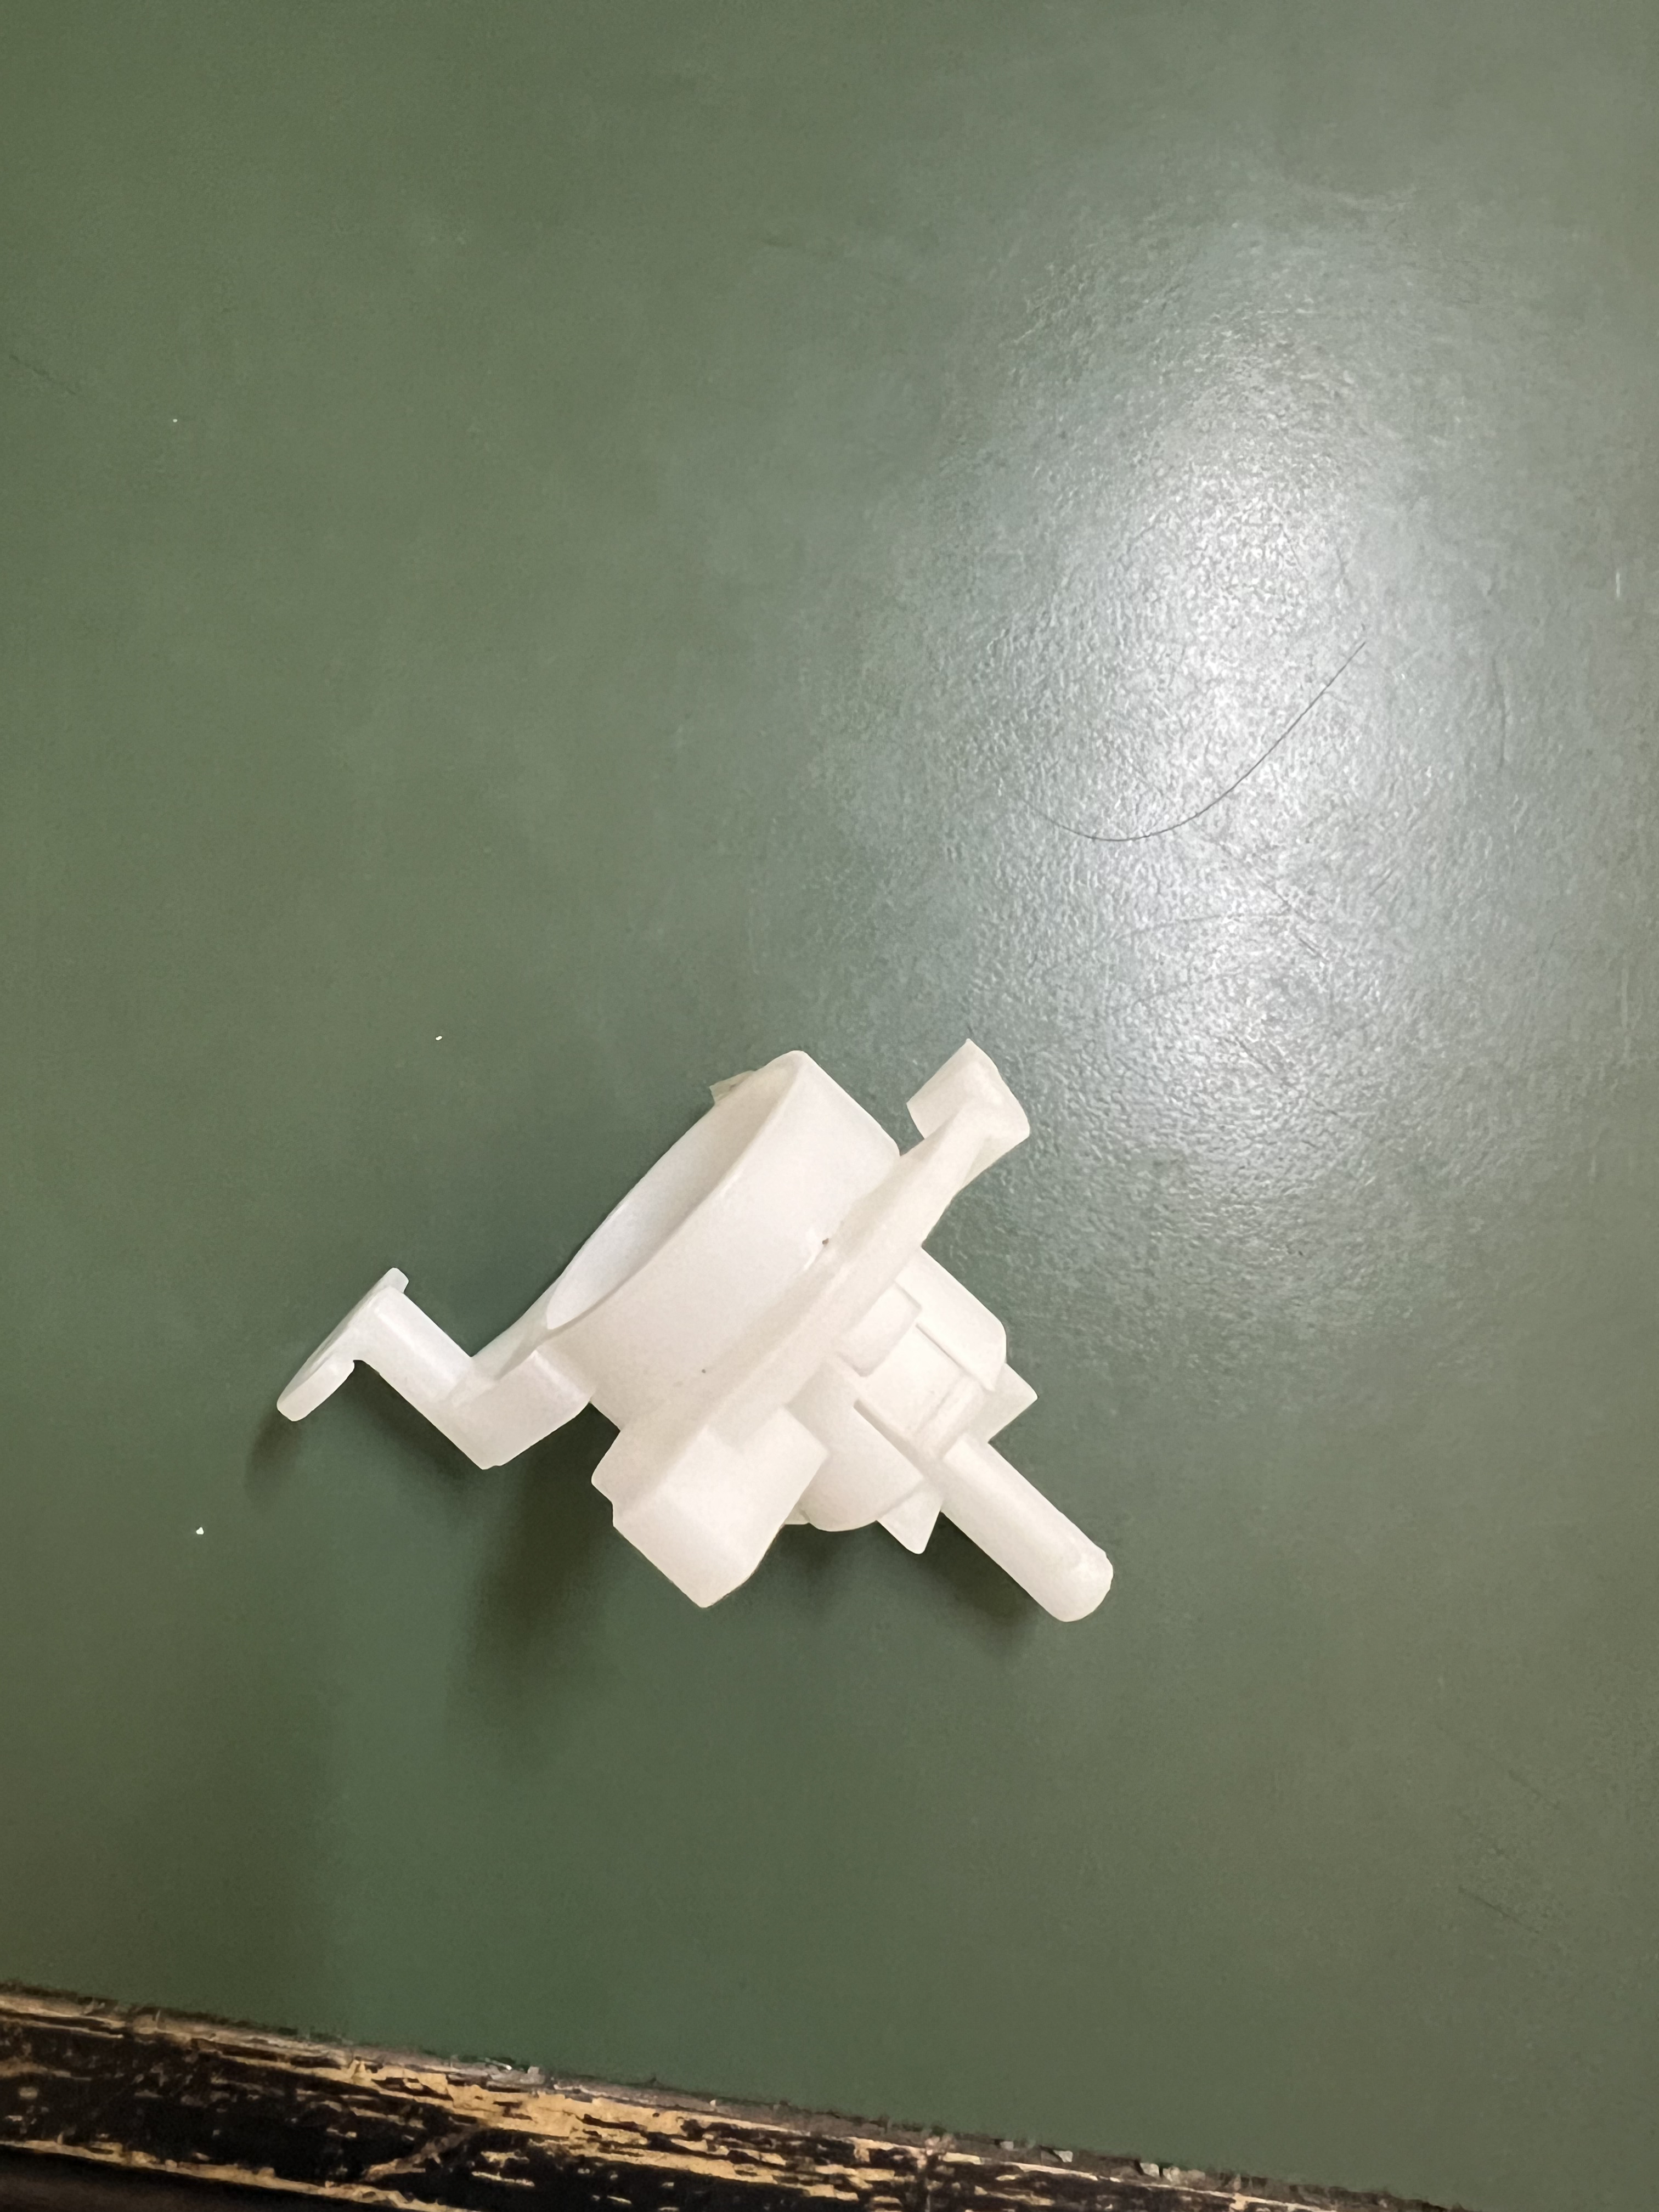drain_lever: (221, 1045, 1195, 1688)
